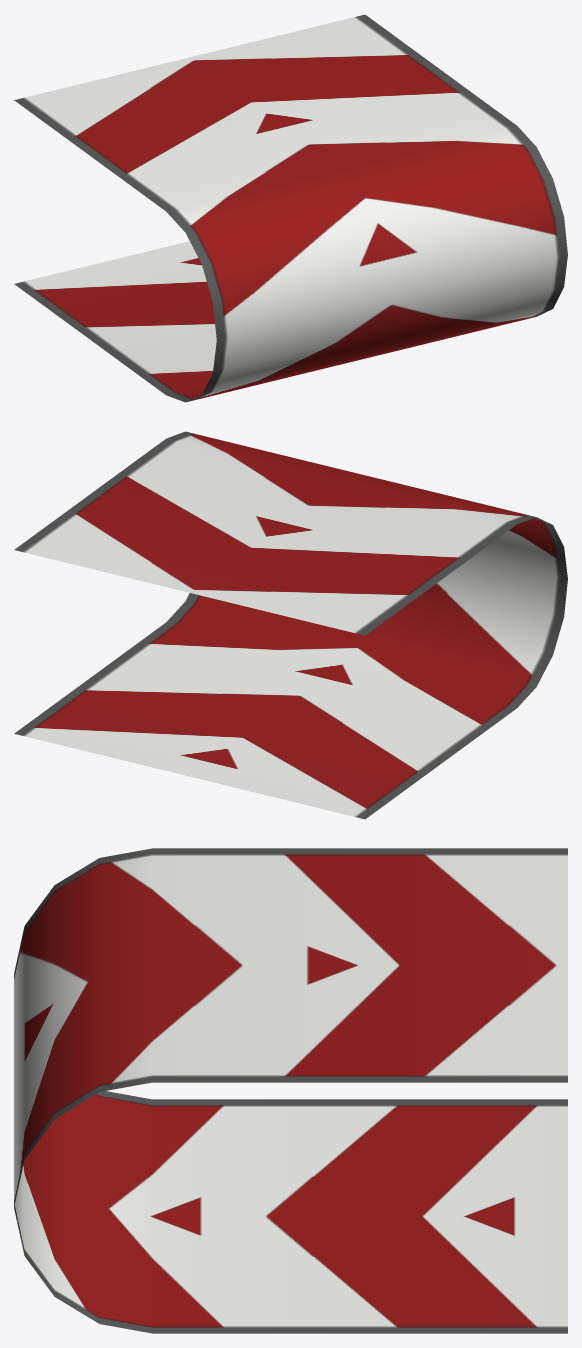
File: E_ConveyorBelt_Back.fbx
3 views of the same model, one above another, from view 1: azimuth 30°, elevation 25°; view 2: azimuth 150°, elevation 25°; view 3: azimuth 270°, elevation 25° (orthographic). The views are drawn at different scales.
Parts seen in each view (by area): view 1: ConveyorBelt_Back; view 2: ConveyorBelt_Back; view 3: ConveyorBelt_Back.
Boxes of the visible parts, x1=… form: ConveyorBelt_Back: x1=14, y1=14, x2=567, y2=402; ConveyorBelt_Back: x1=14, y1=431, x2=567, y2=819; ConveyorBelt_Back: x1=14, y1=848, x2=567, y2=1333.
Size of the model in its own units: 400 by 200 by 400.
